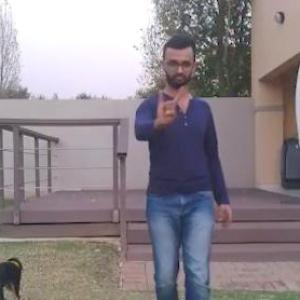takeoff-hand: (144, 82, 191, 131)
